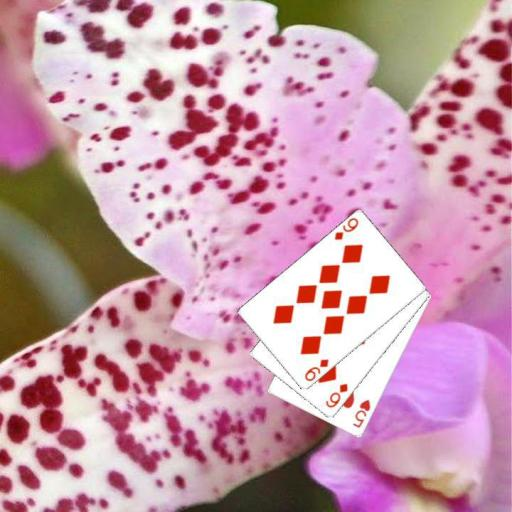5H: (349, 396, 372, 430)
6D: (322, 381, 349, 410)
9D: (301, 357, 330, 384), (331, 215, 360, 242)
